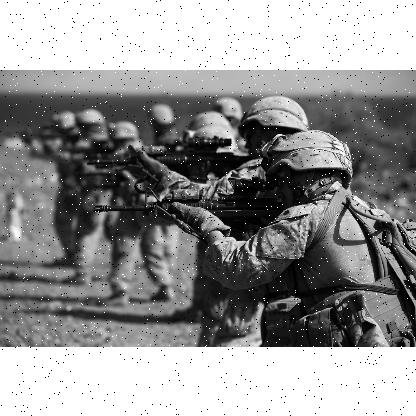gun: (92, 176, 280, 238), (86, 130, 252, 182)
